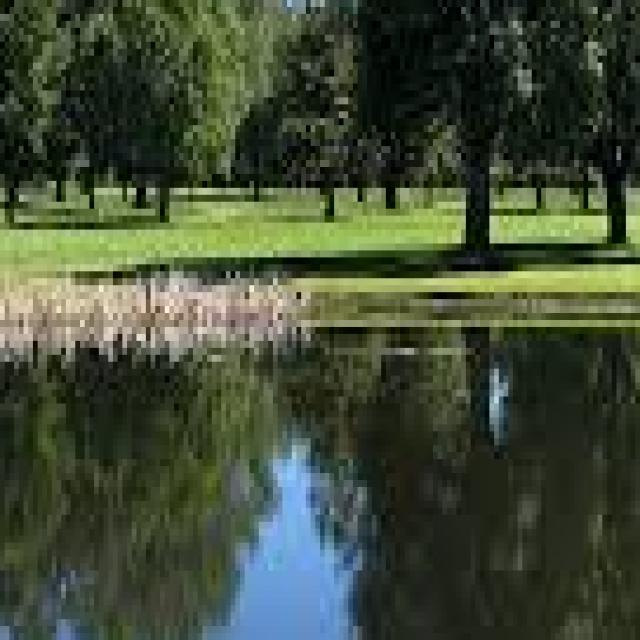-: (0, 417, 640, 640)
